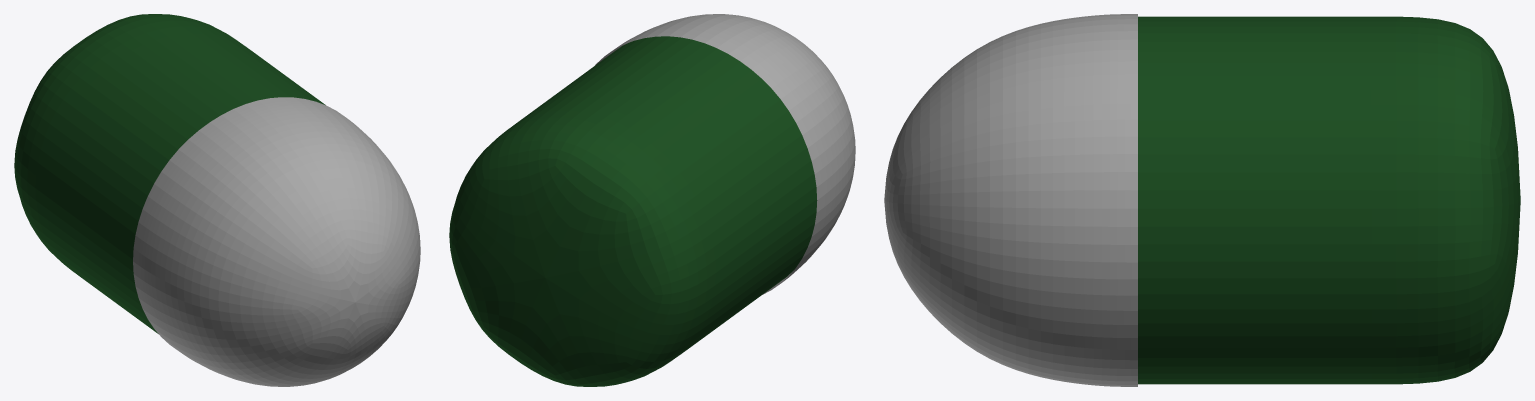
Rendered from missile_ammo.fbx.
3 renders of one model, left to right at view 1: azimuth 30°, elevation 25°; view 2: azimuth 150°, elevation 25°; view 3: azimuth 270°, elevation 25°, orthographic. The views are drawn at different scales.
Parts seen in each view (by area): view 1: Point.001; view 2: Point.001; view 3: Point.001.
Part boxes in pixels (left/top/right/bottom): Point.001: left=14, top=14, right=420, bottom=386; Point.001: left=449, top=14, right=855, bottom=386; Point.001: left=884, top=14, right=1520, bottom=386.
Size of the model in its own units: 50.42 by 50.42 by 85.85.
